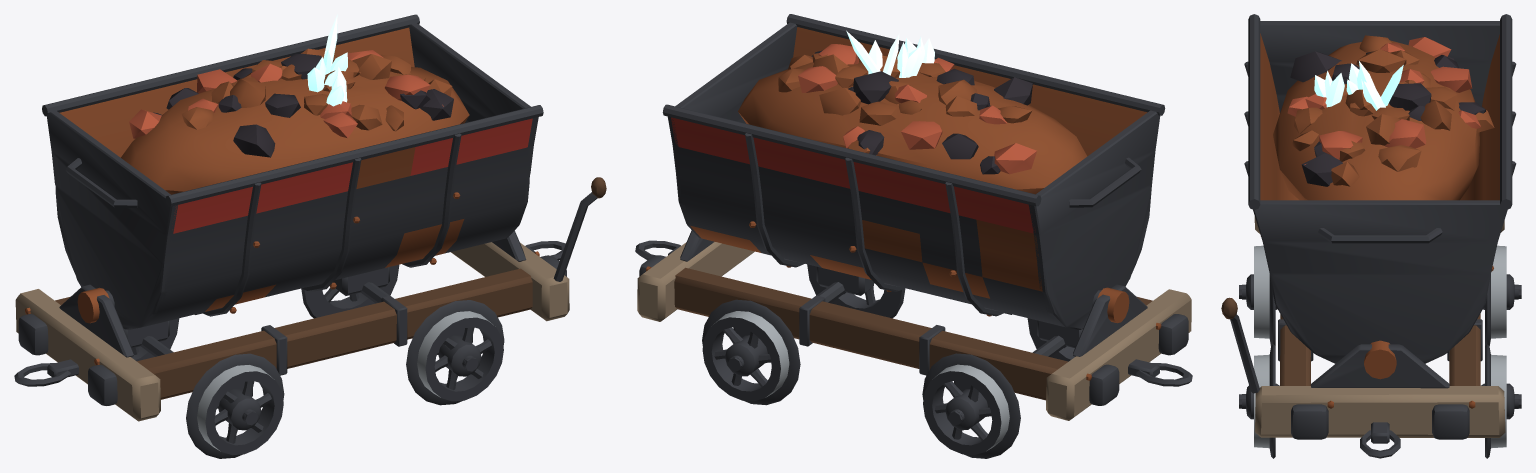
File: deco_mine_cart.fbx
The picture shows the model from 3 angles, left to right: view 1: azimuth 30°, elevation 25°; view 2: azimuth 150°, elevation 25°; view 3: azimuth 270°, elevation 25°; orthographic projection.
Parts seen in each view (by area): view 1: MineCart_Bucket, MineCart_Chassis, MineCart_Ore, MineCart_WheelBR, MineCart_WheelFR, MineCart_WheelFL; view 2: MineCart_Bucket, MineCart_Chassis, MineCart_Ore, MineCart_WheelFL, MineCart_WheelBL, MineCart_WheelFR; view 3: MineCart_Bucket, MineCart_Ore, MineCart_Chassis, MineCart_WheelBL, MineCart_WheelBR, MineCart_WheelFL, MineCart_WheelFR.
Boxes of the visible parts, x1,y1,x2,y2 form: MineCart_Bucket: (42,14,543,329); MineCart_Chassis: (14,177,606,425); MineCart_Ore: (121,14,469,194); MineCart_WheelBR: (186,353,284,458); MineCart_WheelFR: (406,300,504,405); MineCart_WheelFL: (301,264,399,318); MineCart_Bucket: (662,14,1165,329); MineCart_Chassis: (635,230,1192,424); MineCart_Ore: (738,30,1087,194); MineCart_WheelFL: (702,299,800,405); MineCart_WheelBL: (922,353,1020,458); MineCart_WheelFR: (807,264,905,318); MineCart_Bucket: (1244,14,1516,363); MineCart_Ore: (1273,35,1494,200); MineCart_Chassis: (1221,216,1521,458); MineCart_WheelBL: (1483,245,1518,345); MineCart_WheelBR: (1242,245,1277,345); MineCart_WheelFL: (1481,344,1518,458); MineCart_WheelFR: (1242,344,1279,458).
Size of the model in its own units: 277 by 170 by 127.
